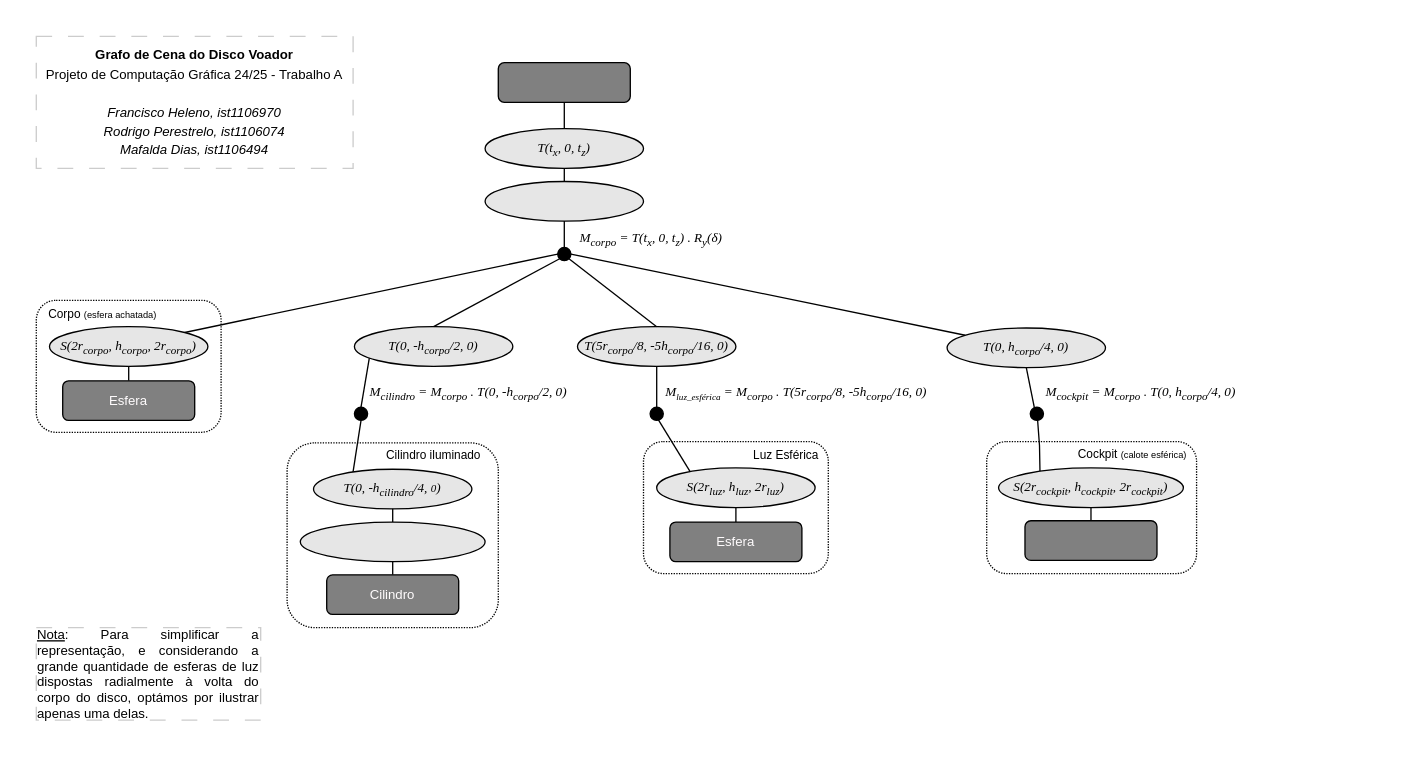
This 1404x758 diagram has some shape labels left out. The shapes that lost their labels are listed below. From the top down, each one's box as (x1, y1, x2, y2) in pixels, then its label:
(497, 61, 630, 102): Disco Voador
(484, 180, 644, 221): R y ( δ)
(299, 521, 485, 562): S(2r cilindro , h cilindro , 2r cilindro )
(1024, 519, 1157, 560): Semi-esfera
